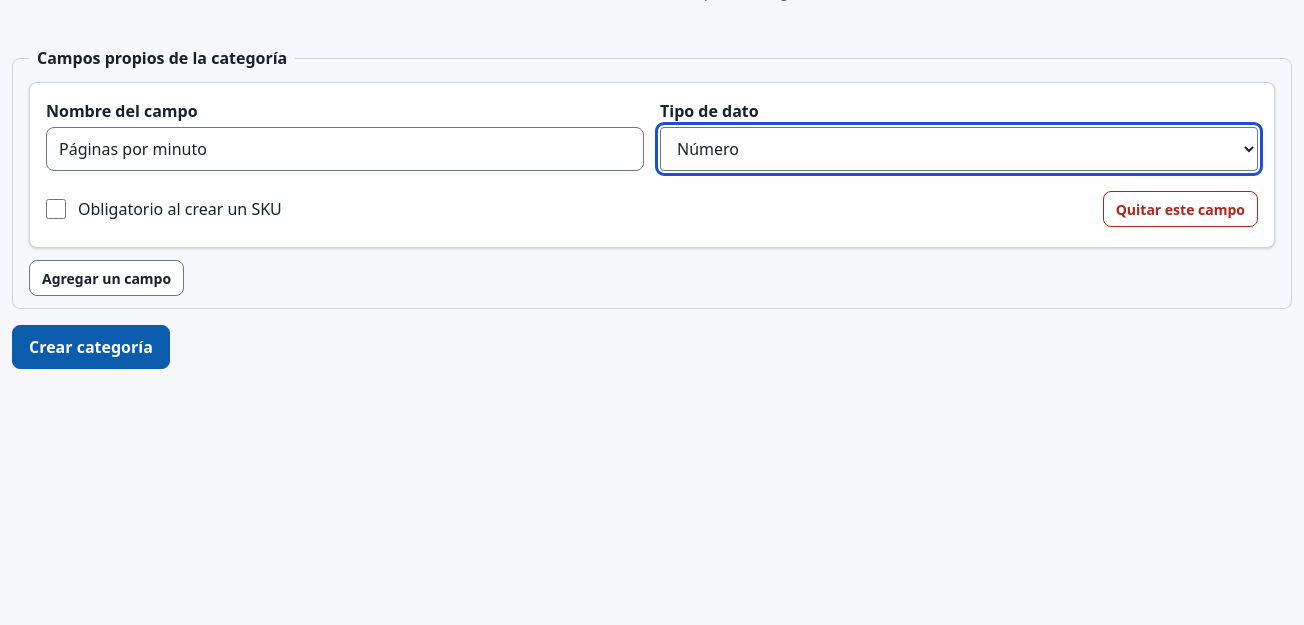
Test: FormularioCategoria › permite armar una categoría «Impresoras» con campos propios de varios tipos
Earlier steps of the test are not shown.
Click the checkbox with test id "campo-def-0-obligatorio": {"x": 56, "y": 209} 46,199 -> 66,219
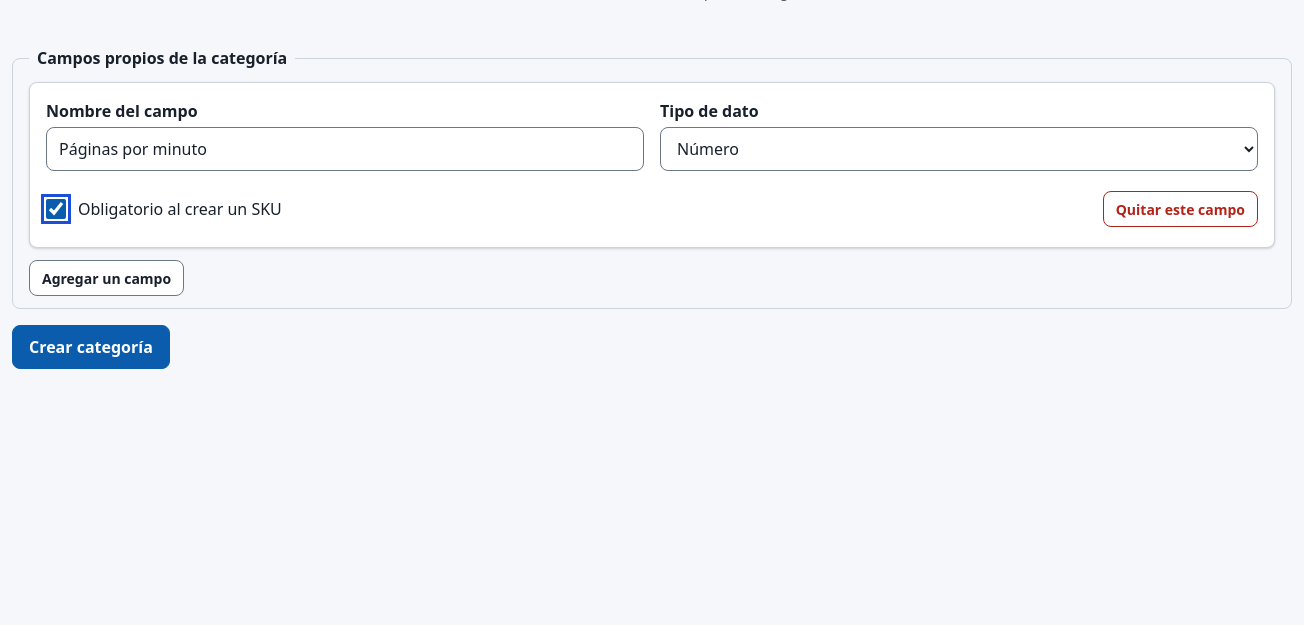
Click the button with test id "campo-def-agregar": {"x": 107, "y": 278} 29,260 -> 184,296
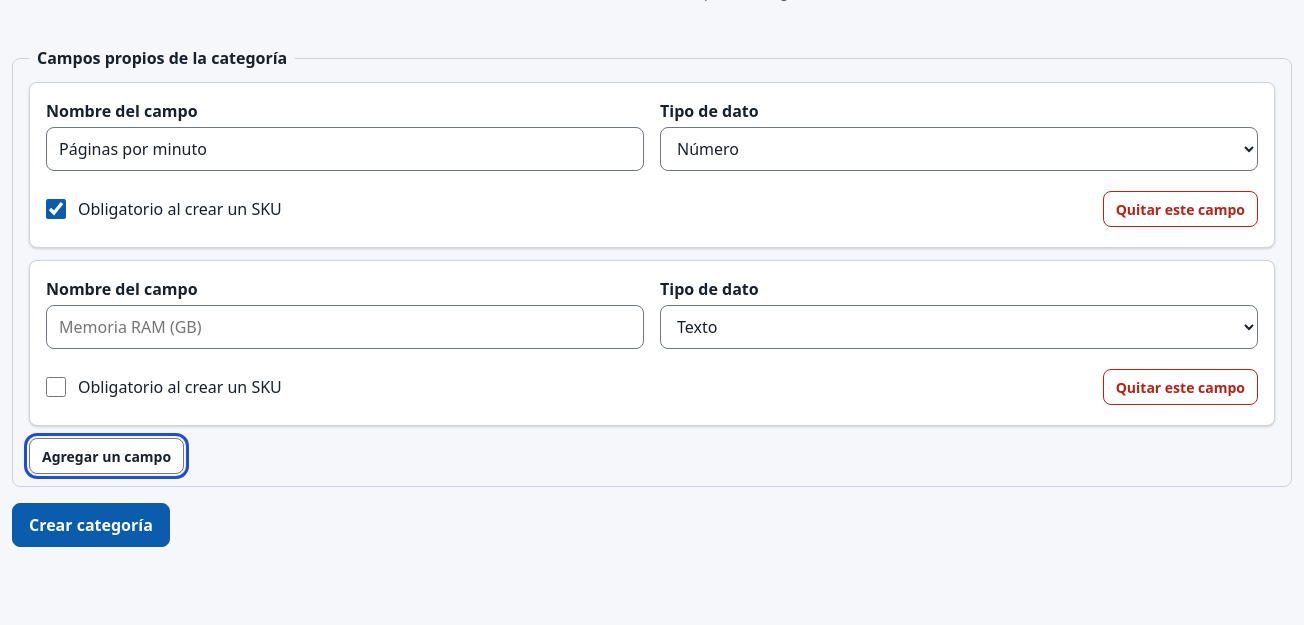
In the field with test id "campo-def-1-etiqueta": {"x": 345, "y": 327} 46,305 -> 644,349, type "Tipo de tinta"
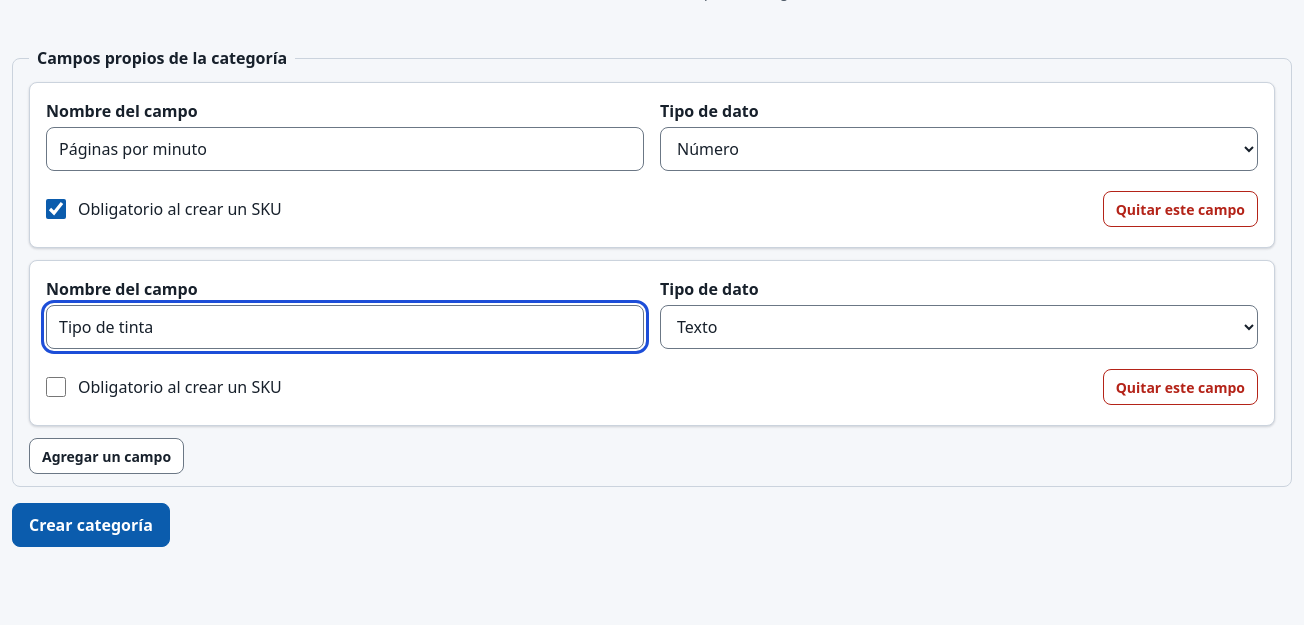
Select "Lista de opciones" in the dropdown with test id "campo-def-1-tipo": {"x": 959, "y": 327} 660,305 -> 1258,349
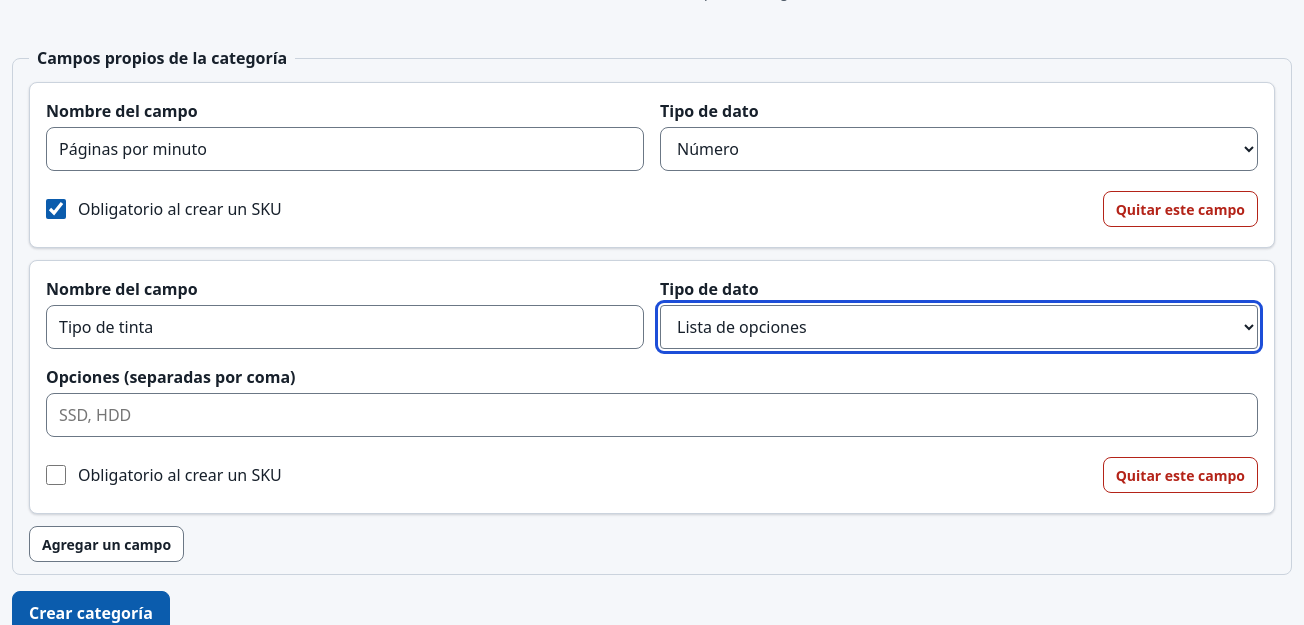
In the field with test id "campo-def-1-opciones": {"x": 652, "y": 415} 46,393 -> 1258,437, type "Láser, Inyección"
(page scrolled)
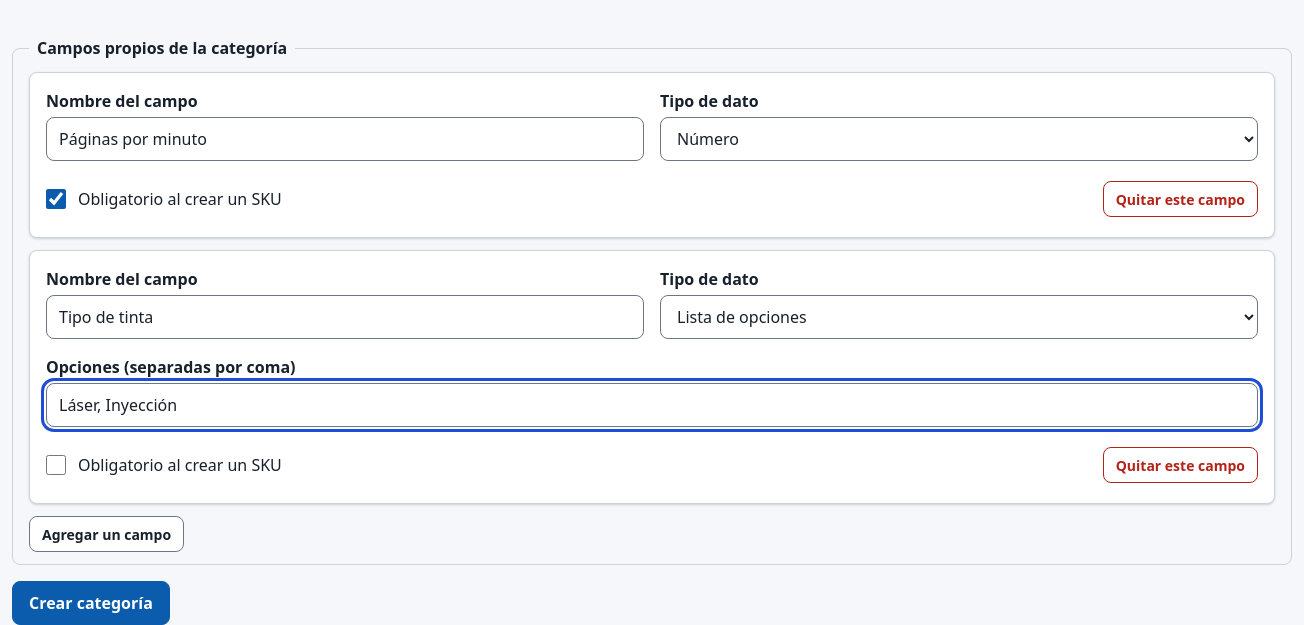
Click the button with test id "form-crear-categoria-enviar": {"x": 91, "y": 603} 12,581 -> 170,624
(page scrolled)
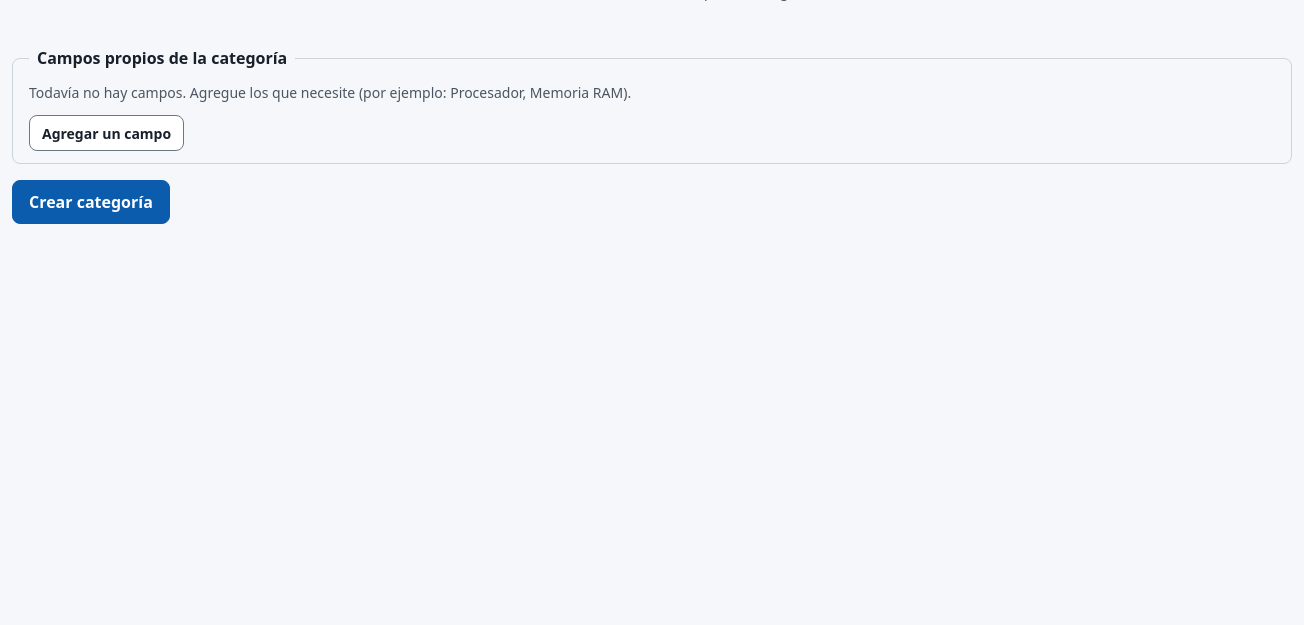
Check: the text with test id "campo-def-sin-campos" is shown, box 29,83 -> 631,102
